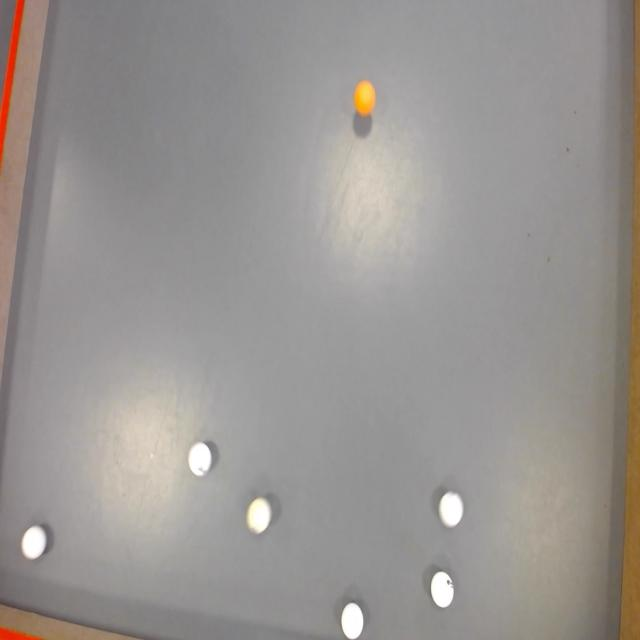orange-golf-balls: (354, 78, 376, 116)
white-golf-balls: (187, 440, 212, 477), (340, 602, 363, 640), (440, 493, 464, 528), (22, 527, 48, 559), (431, 572, 454, 608), (248, 497, 270, 533)
